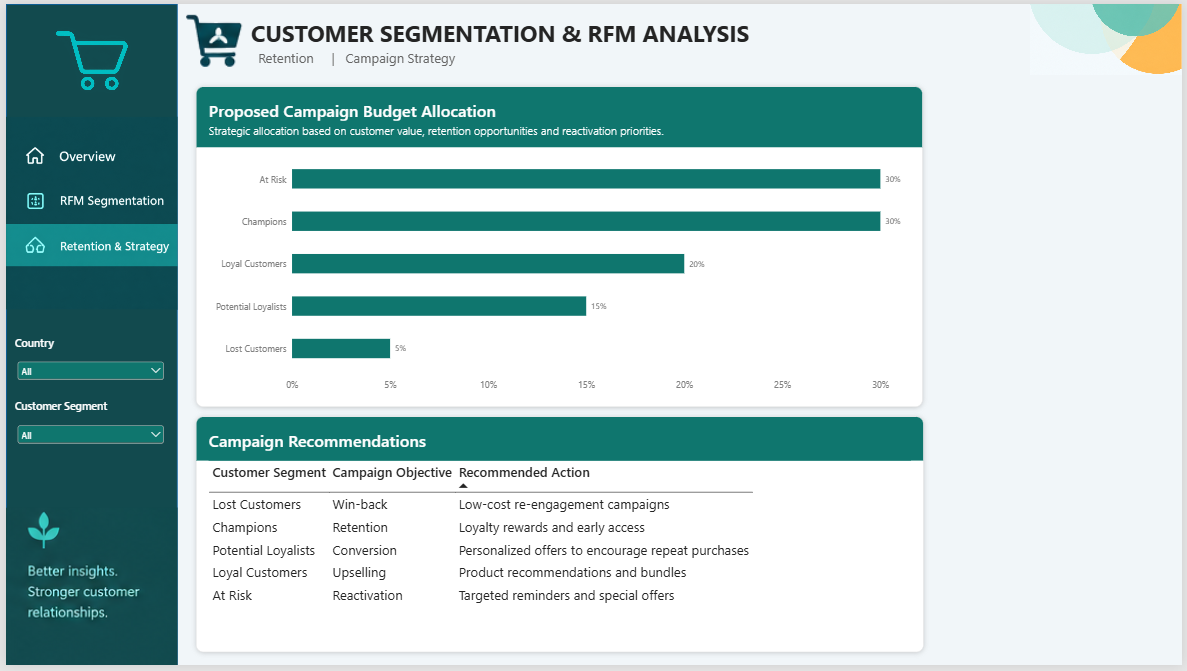

This screenshot's page, from the dashboard's own definition file:
{"tool":"powerbi","page":{"name":"Retention & Strategy","canvas":[1920,1080],"ordinal":2},"visuals":[{"type":"shape","box":[0,0,280,1080],"z":0},{"type":"image","box":[0,0,280,172],"z":1000},{"type":"image","box":[0,172,280,340],"z":2000},{"type":"image","box":[0,822,280,258],"z":3000},{"type":"textbox","box":[400,22,1520,112],"z":4000},{"type":"image","box":[294,4,92,112],"z":5000},{"type":"image","box":[1672,0,248,116],"z":6000},{"type":"textbox","box":[400,74,924,42],"z":7000},{"type":"slicer","title":"Country","fields":{"Values":["online_retail_clean.Country"]},"box":[15,540,248.3,81.7],"z":8000},{"type":"slicer","title":"Customer Segment","fields":{"Values":["Customers.Customer Segment"]},"box":[15,645,248.3,115],"z":9000},{"type":"tableEx","title":"Campaign Recommendations","fields":{"Values":["Table.Customer Segment","Table.Campaign Objective","Table.Recommended Action"]},"box":[309.6,673.1,1187.7,384.9],"z":11000},{"type":"clusteredBarChart","title":"Proposed Campaign Budget Allocation","fields":{"Category":["Campaign Budget table.Customer Segment"],"Y":["Sum(Campaign Budget table.Proposed Budget Allocation)"]},"box":[309.6,134.6,1186.5,523.1],"z":12000}]}

Visuals, with their boxes on the page's 1920x1080 design canvas (x1, y1, x2, y2). These are canvas units, not pixel positions in the 1187x671 screenshot, which may show the page scaled, cropped or inside an application window:
shape: x1=0, y1=0, x2=280, y2=1080
image: x1=0, y1=0, x2=280, y2=172
image: x1=0, y1=172, x2=280, y2=512
image: x1=0, y1=822, x2=280, y2=1080
textbox: x1=400, y1=22, x2=1920, y2=134
image: x1=294, y1=4, x2=386, y2=116
image: x1=1672, y1=0, x2=1920, y2=116
textbox: x1=400, y1=74, x2=1324, y2=116
"Country" slicer: x1=15, y1=540, x2=263, y2=622
"Customer Segment" slicer: x1=15, y1=645, x2=263, y2=760
"Campaign Recommendations" tableEx: x1=310, y1=673, x2=1497, y2=1058
"Proposed Campaign Budget Allocation" clusteredBarChart: x1=310, y1=135, x2=1496, y2=658
